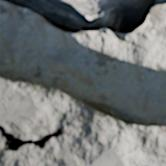brick: (0, 76, 165, 165), (71, 0, 115, 14)
crack: (2, 0, 163, 39)
